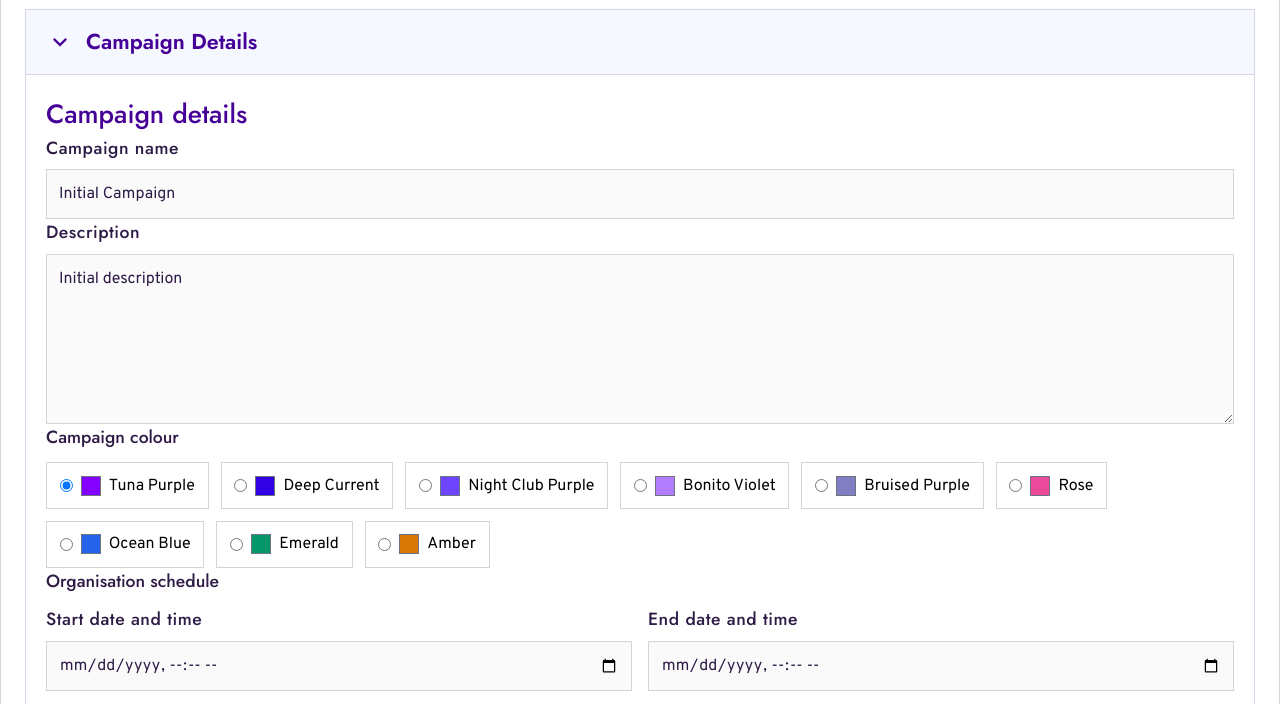
Test: CampaignBuilder › enables Discard after a field changes
Type "updated" into the field labelled "Campaign name" at (640, 194), box [46, 169, 1234, 219]
(page scrolled)
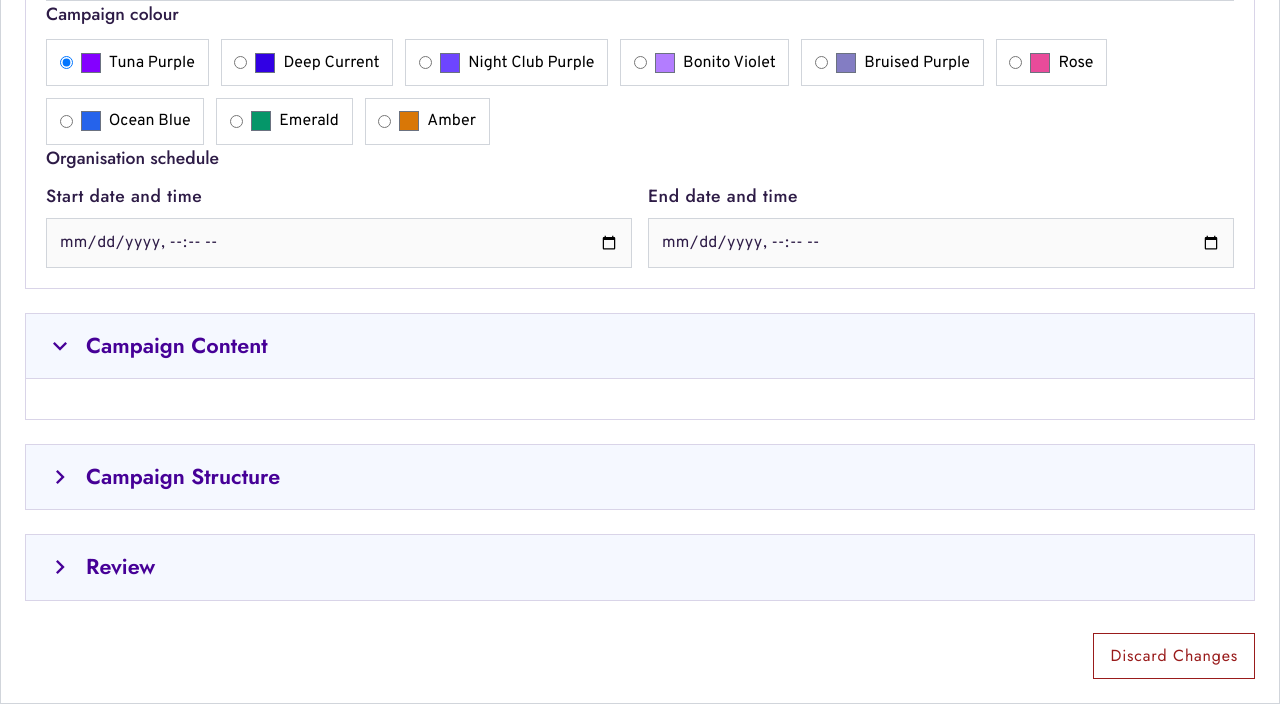
Now the button "Discard Changes" is enabled, box [1094, 633, 1255, 680]
